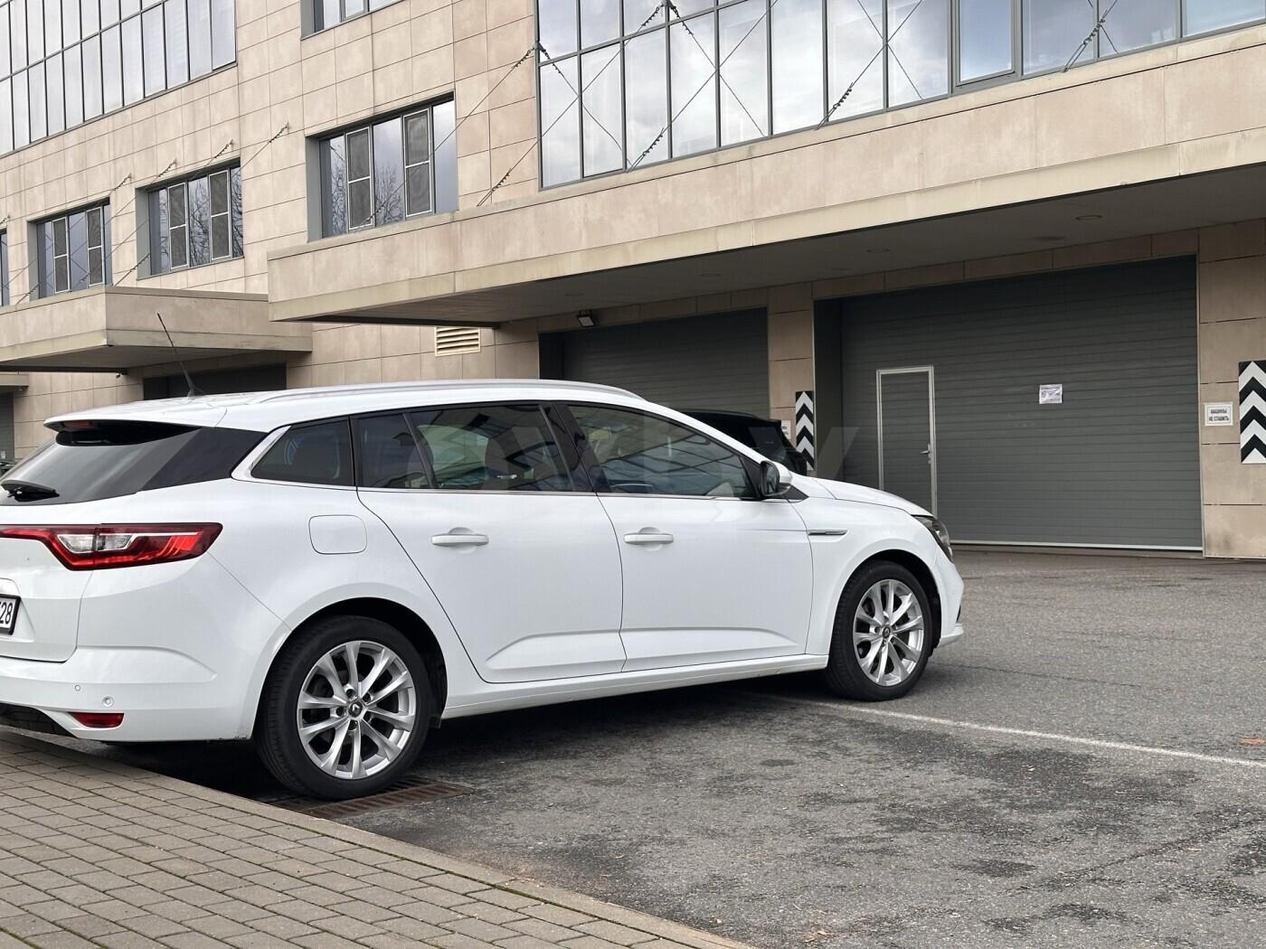Megane_2016-2020: (0, 387, 968, 793)
